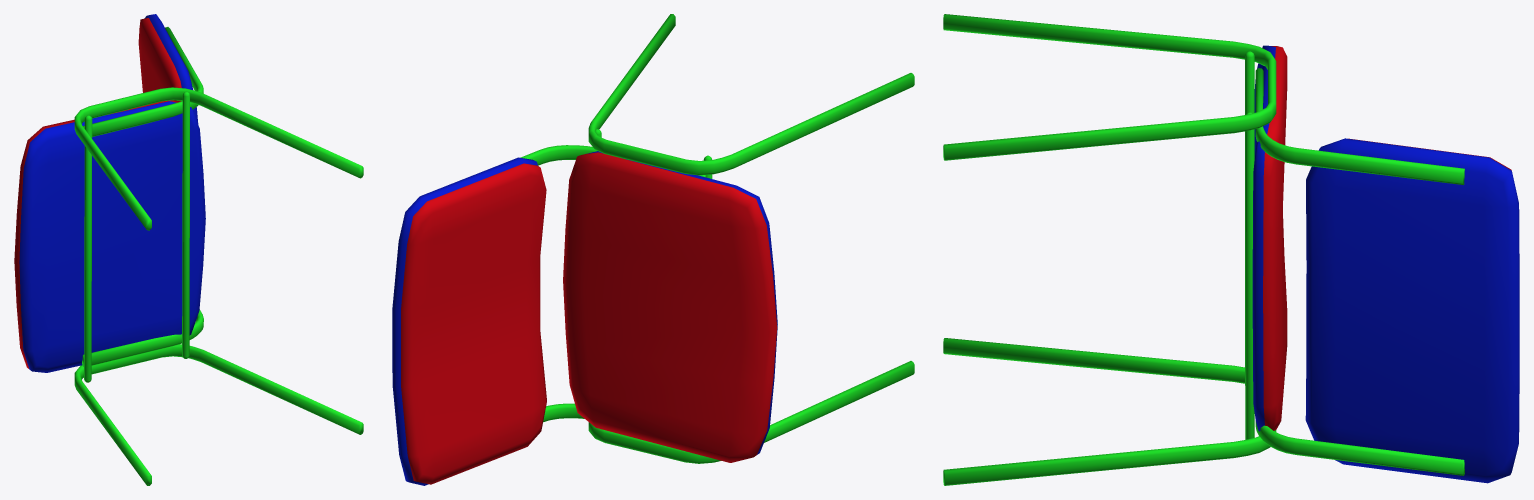
Rendered from chair_1.FBX.
3 views of the same model, side by side, from view 1: azimuth 30°, elevation 25°; view 2: azimuth 150°, elevation 25°; view 3: azimuth 270°, elevation 25° (orthographic). The views are drawn at different scales.
Visible parts, largest first — view 1: metal; view 2: metal; view 3: metal.
Part boxes in pixels (left/top/right/bottom): metal: left=14, top=14, right=363, bottom=485; metal: left=392, top=14, right=914, bottom=485; metal: left=943, top=14, right=1519, bottom=485.
Bounding box in the file's own units: 52.82 × 55.46 × 85.08.
